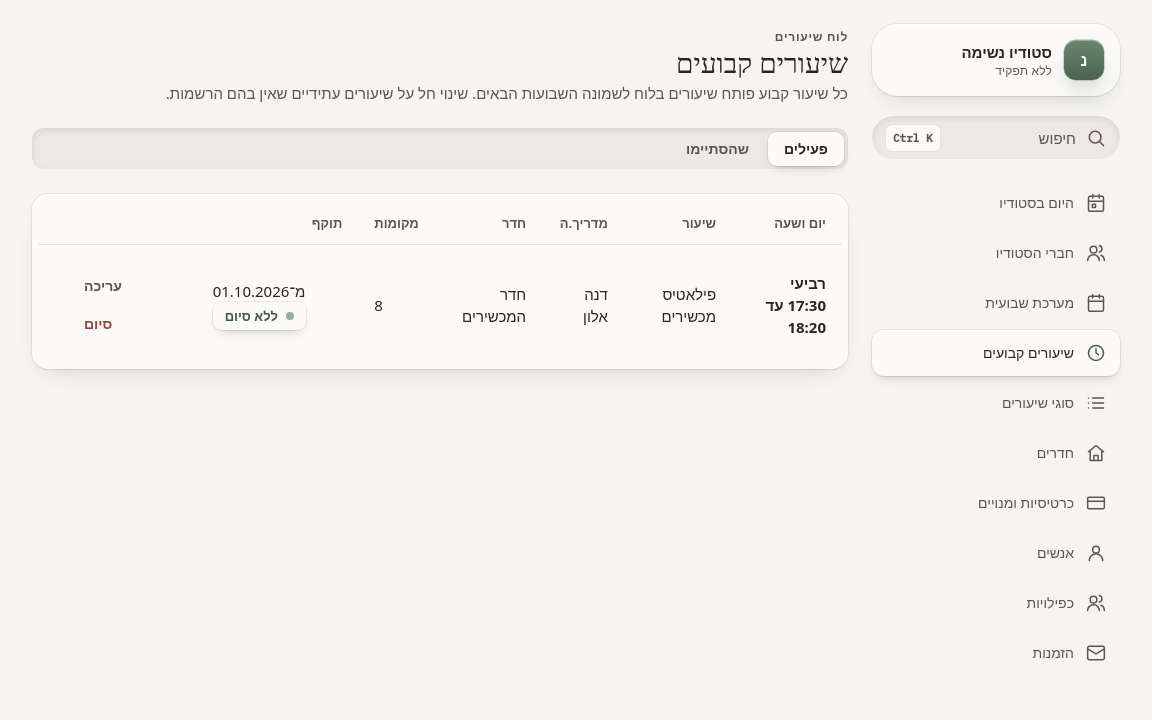
it: weekly classes › sends only what changed and lists the booked sessions it left alone
Expected: the row "פילאטיס מכשירים" shows "רביעי 17:30 עד 18:20", x1=38 y1=249 x2=842 y2=361
Expected: the row "פילאטיס מכשירים" shows "דנה אלון", x1=583 y1=284 x2=608 y2=326
Click the button with aria-label "עריכת פילאטיס מכשירים ביום רביעי 17:30" at (103, 286), box x1=62 y1=269 x2=144 y2=303
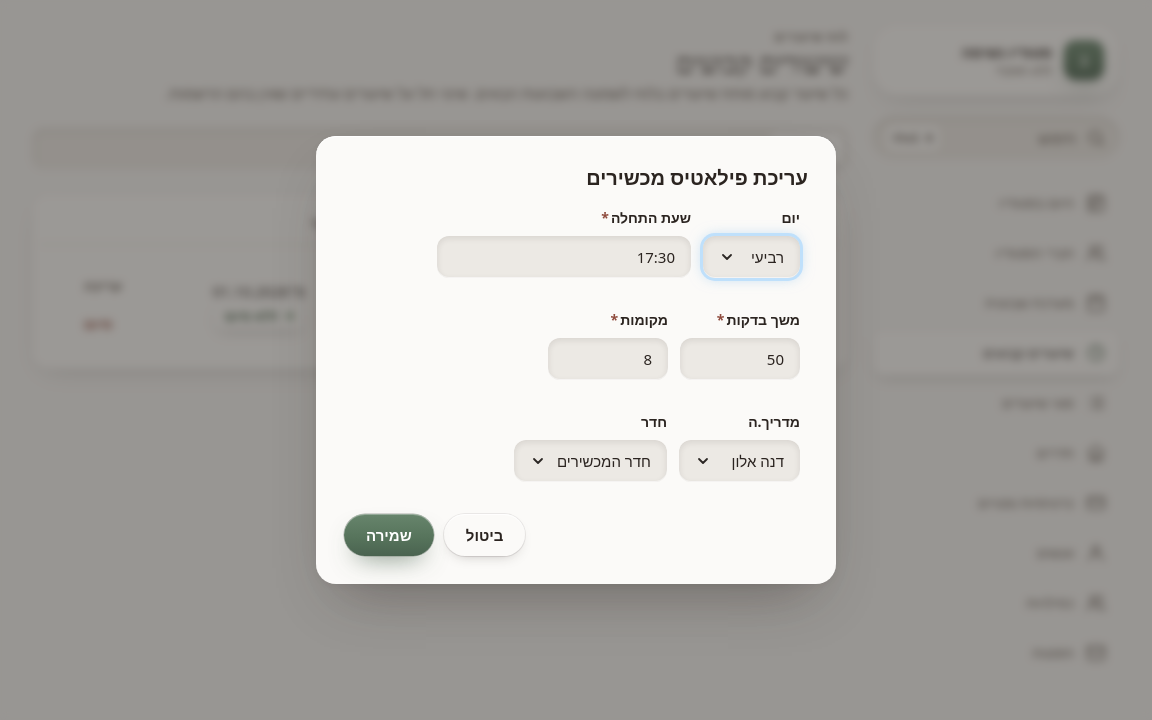
Replace the text in the dropdown labelled "שעת התחלה*" with "1800" at (564, 257), box x1=437 y1=236 x2=691 y2=278
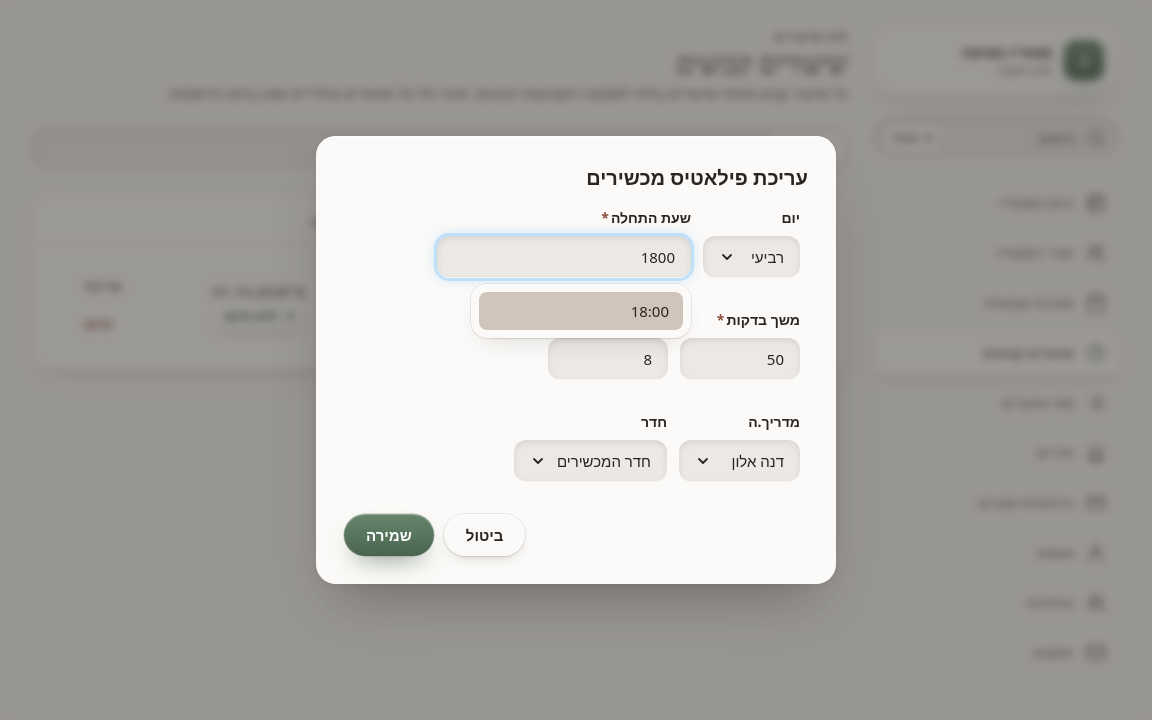
Click the button "שמירה" at (389, 535), box x1=344 y1=514 x2=434 y2=556
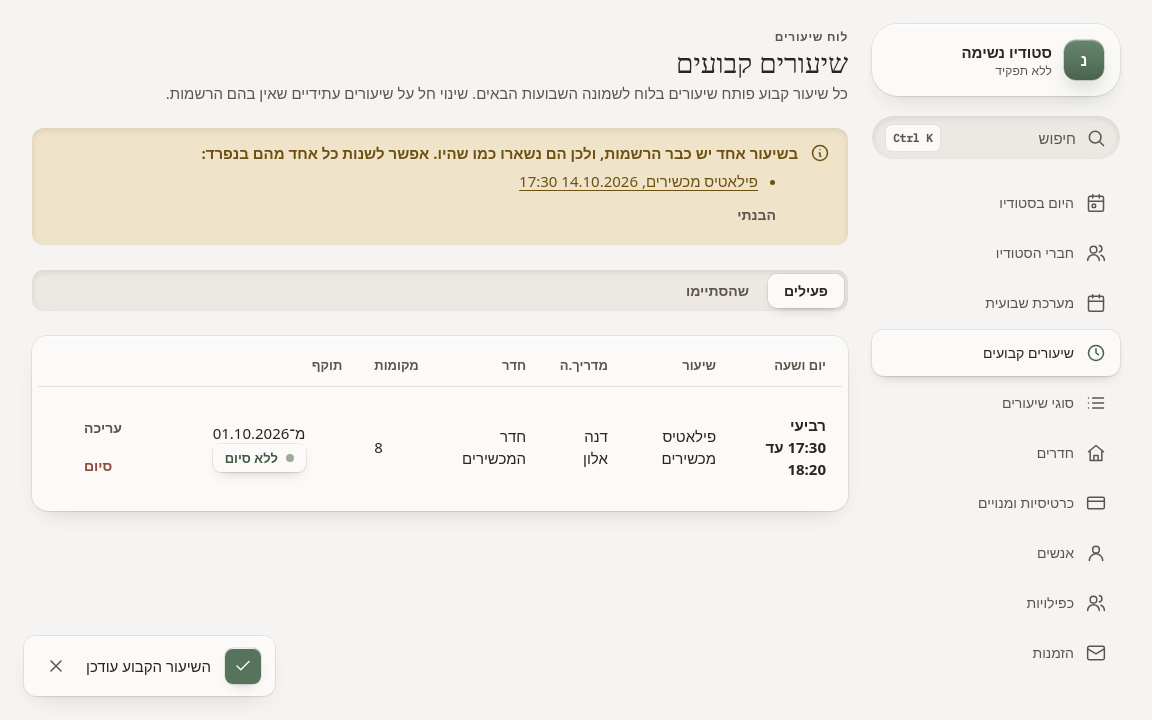
Now the text "השיעור הקבוע עודכן" is shown, box x1=86 y1=655 x2=211 y2=677
Now the text "בשיעור אחד יש כבר הרשמות" is shown, box x1=201 y1=142 x2=798 y2=164
